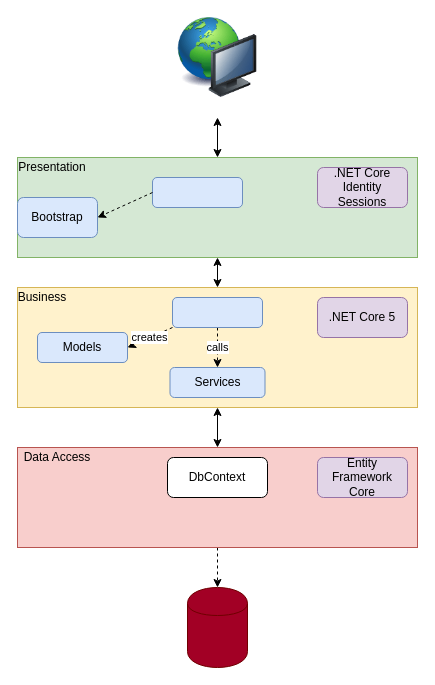
This 435x685 diagram has some shape labels left out. The centre of each missing label's shape, as x and y in pixels:
Client Browser: [217,57]
Controllers: [217,312]
Razor Pages: [197,192]
SQLServer 2018: [217,627]
